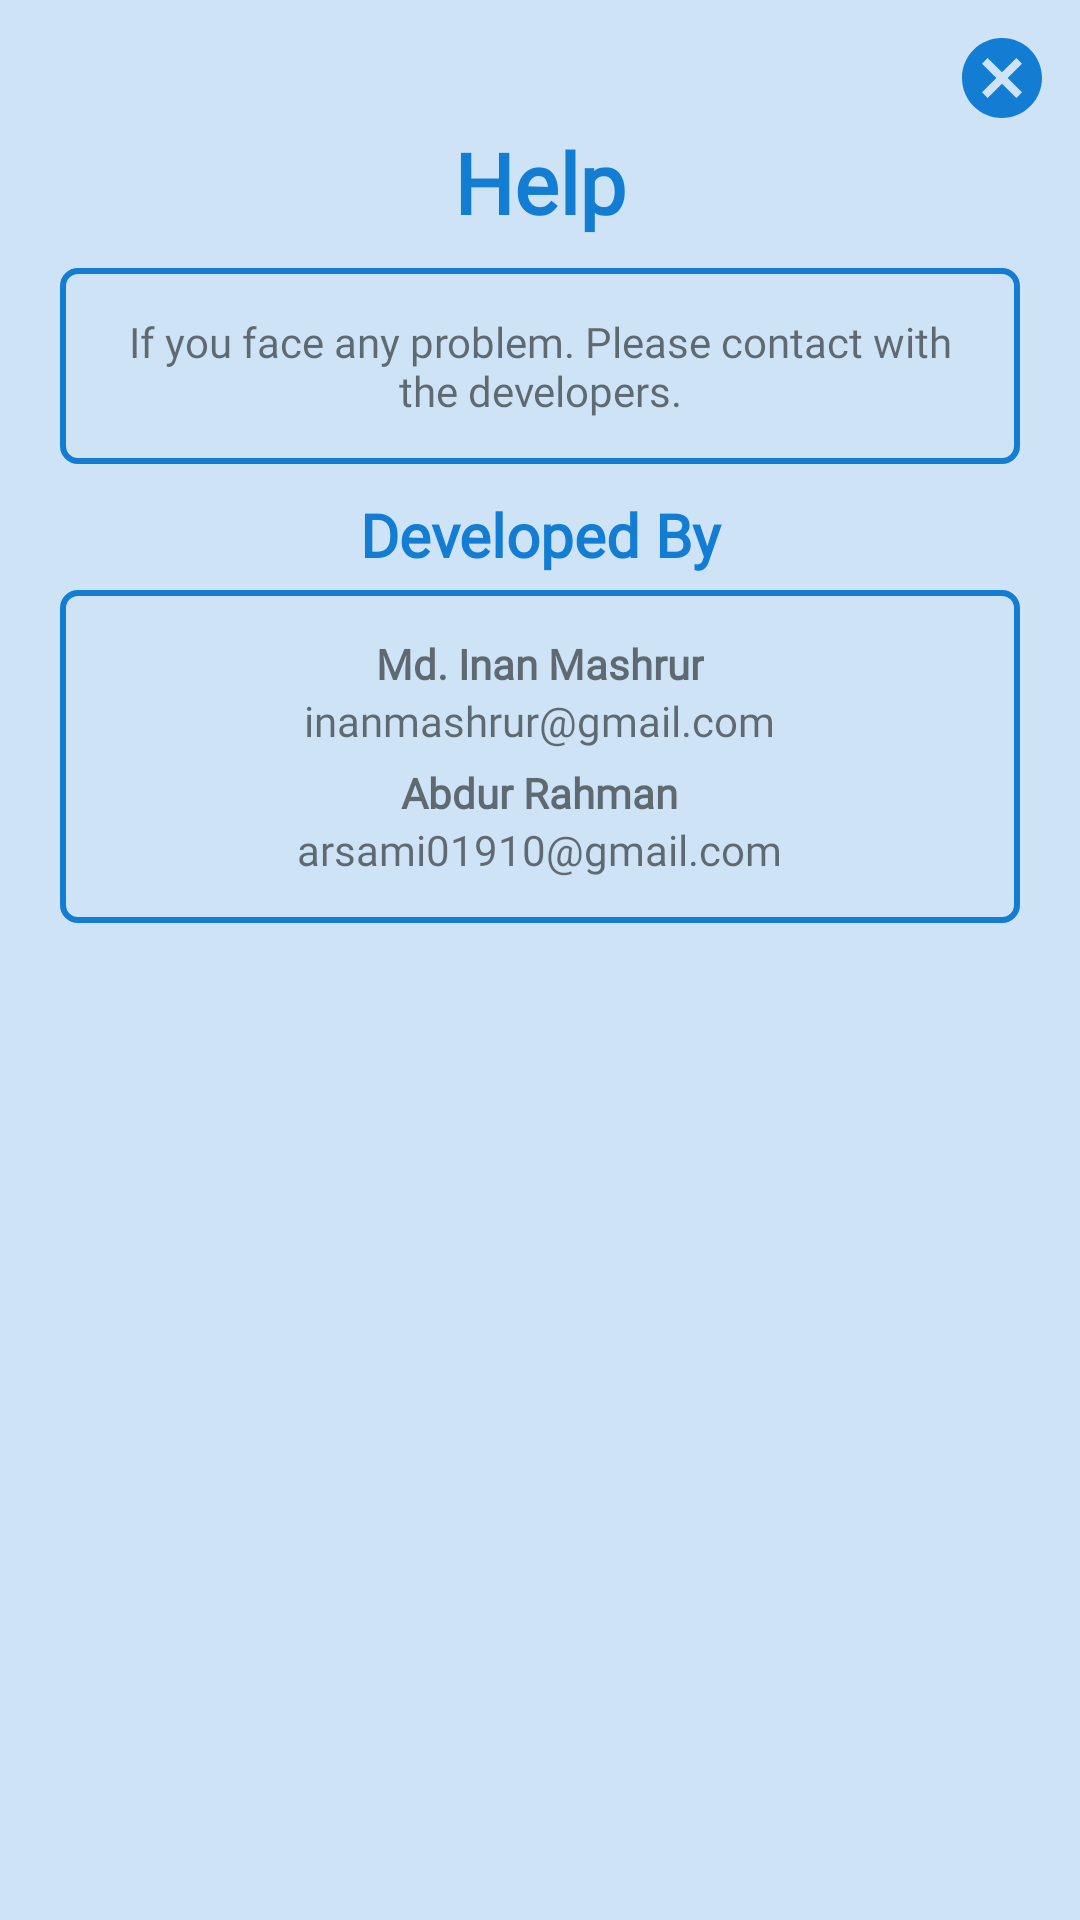

Screen size 1080px x 1920px. Icon name, then its box in pixels as (x1, y1, x2, y2):
cancel: (962, 38, 1042, 118)
